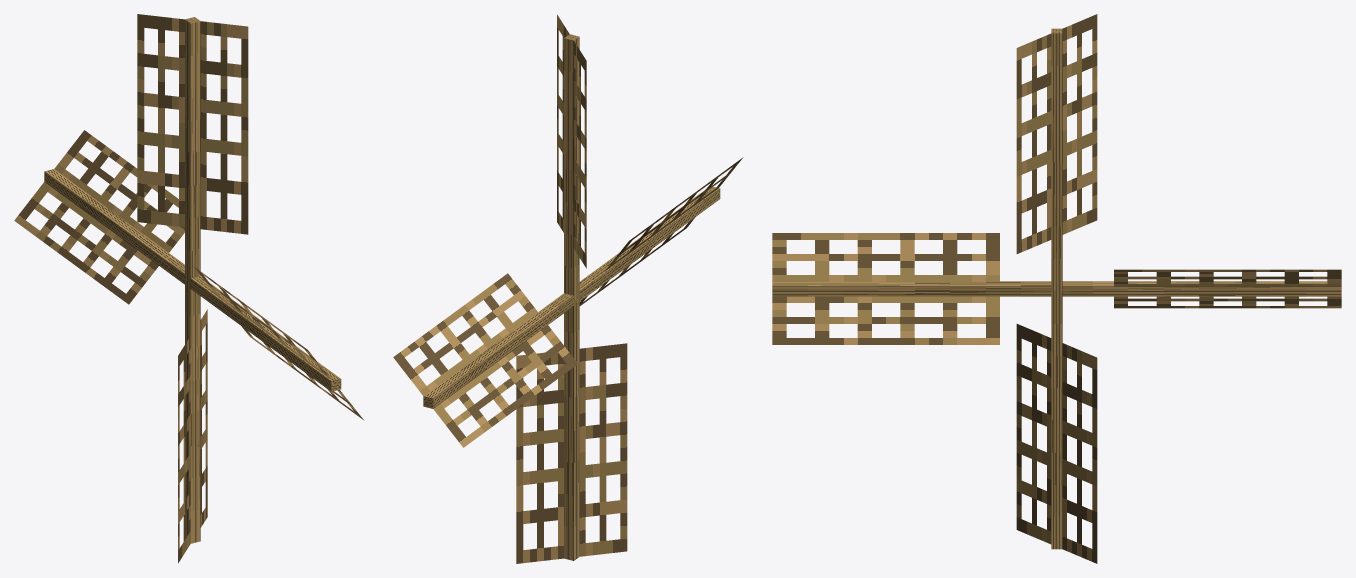
File: windmill.obj
3 renders of one model, left to right at view 1: azimuth 30°, elevation 25°; view 2: azimuth 150°, elevation 25°; view 3: azimuth 270°, elevation 25°, orthographic.
Parts seen in each view (by area): view 1: Cube_Cube.001; view 2: Cube_Cube.001; view 3: Cube_Cube.001.
Boxes of the visible parts, x1,y1,x2,y2 form: Cube_Cube.001: (14, 14, 364, 563); Cube_Cube.001: (393, 14, 743, 563); Cube_Cube.001: (772, 14, 1341, 563).
Bounding box in the file's own units: 1.41 × 10 × 10.
